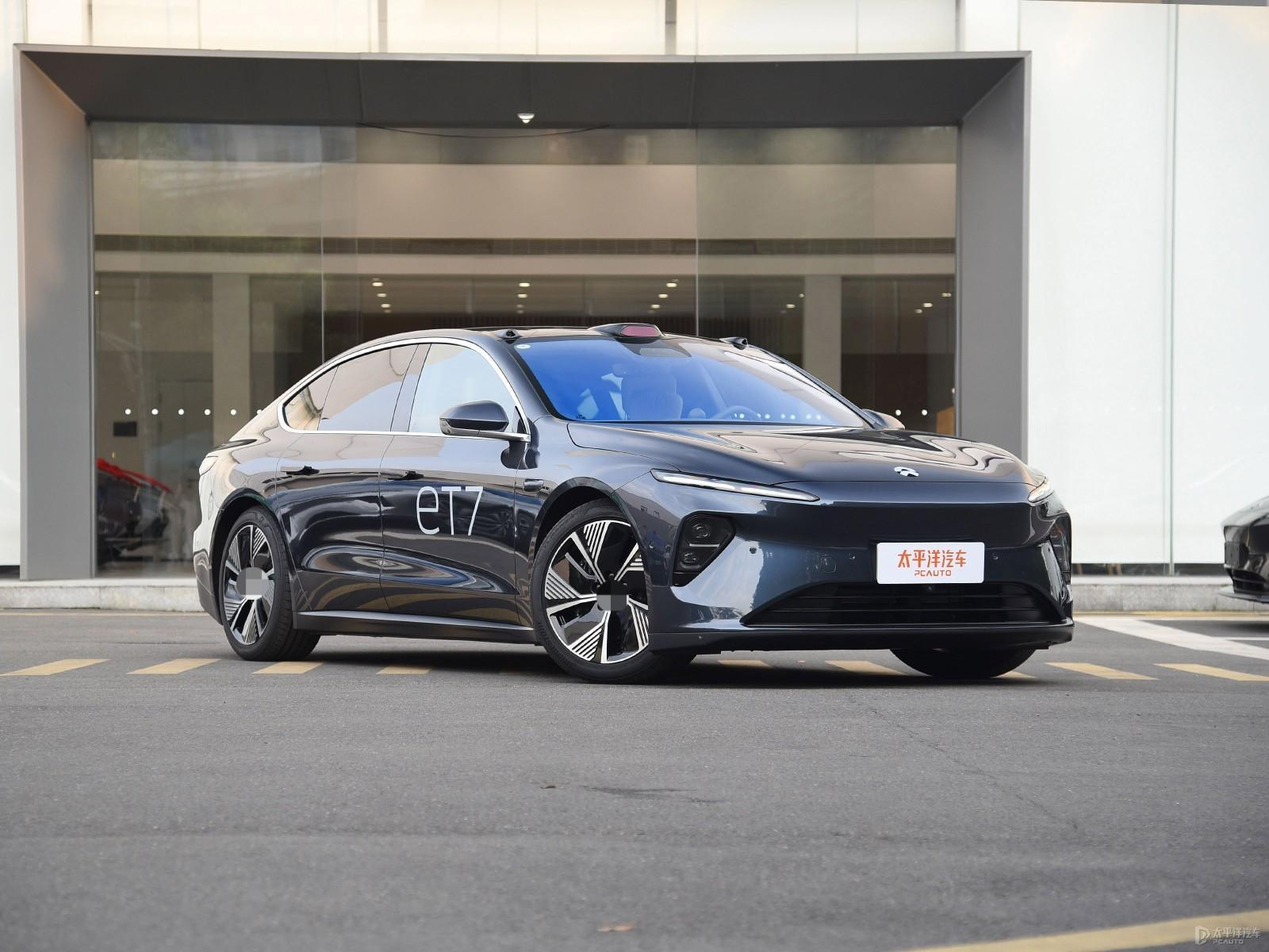NIO: (894, 466, 919, 478)
